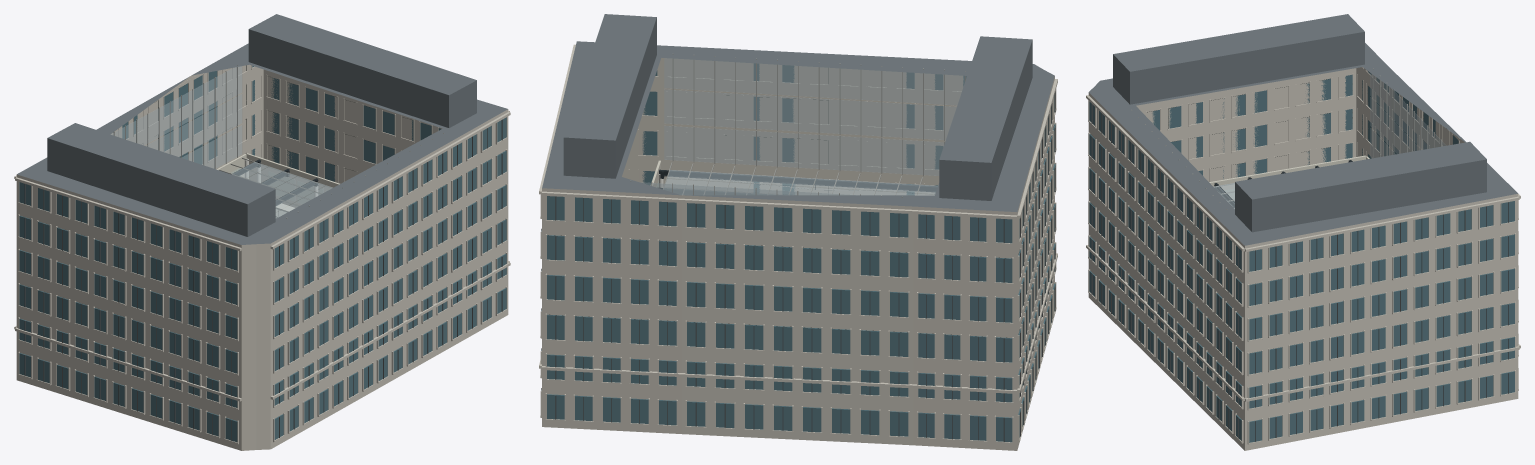
The model's file is ckk-exterior-36efef9dd59d.glb.
The picture shows the model from 3 angles, left to right: view 1: azimuth 30°, elevation 25°; view 2: azimuth 150°, elevation 25°; view 3: azimuth 270°, elevation 25°; orthographic projection. The views are drawn at different scales.
Parts seen in each view (by area): view 1: CKK.001; view 2: CKK.001; view 3: CKK.001.
Boxes of the visible parts, x1,y1,x2,y2 form: CKK.001: [14, 14, 510, 450]; CKK.001: [539, 14, 1057, 450]; CKK.001: [1086, 14, 1520, 450].
Bounding box in the file's own units: 55.91 × 29.15 × 48.02.
